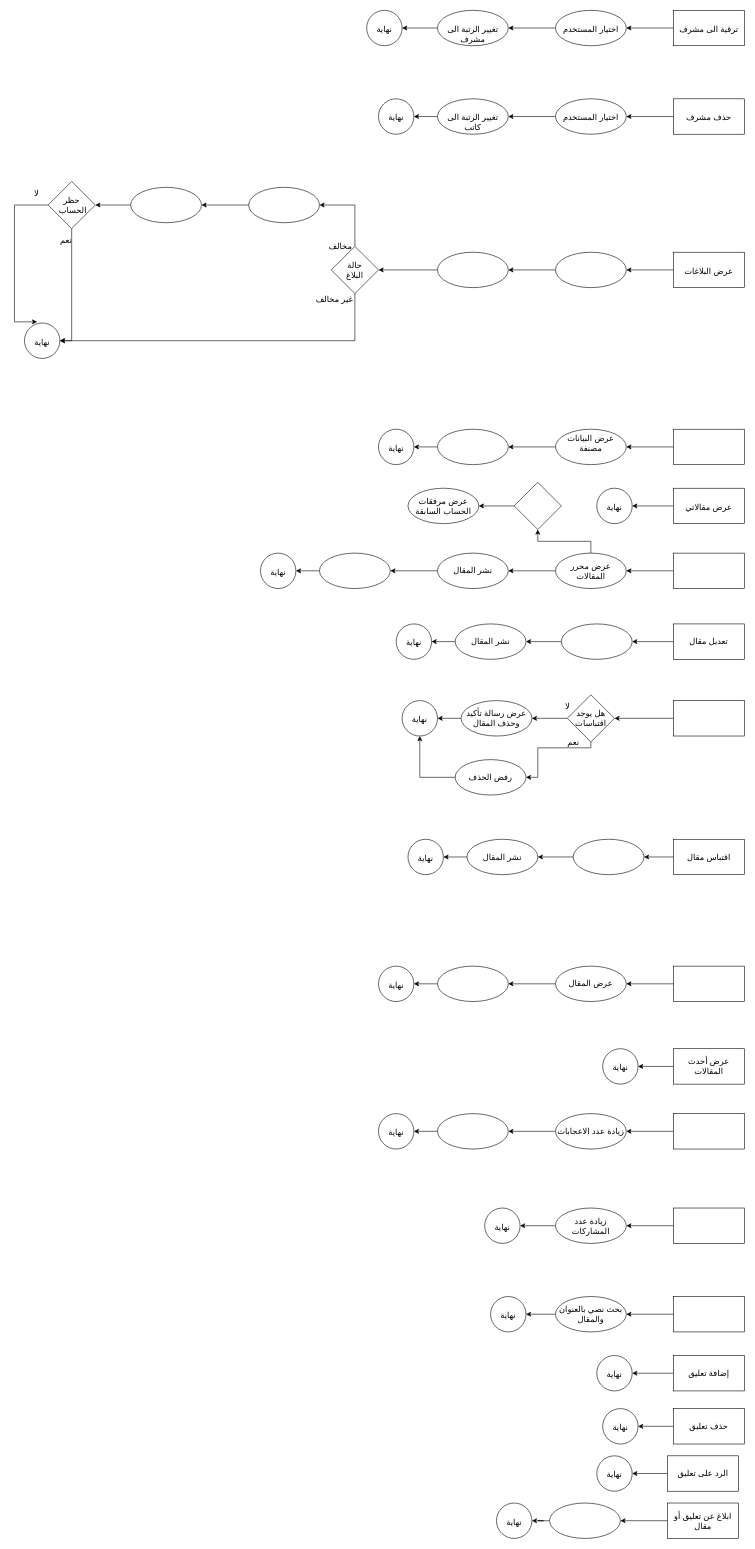
Image size: 755x1549. Some labels were removed from this diagram. The shapes that lost their labels are listed below. From the top down, each one's centre as x and y in pixels, then its label:
point 165,205: حذف المخالفة
point 283,205: عرض مخالفات الحساب السابقة
point 472,270: اغلاق البلاغ
point 590,270: عرض وصف البلاغ والشيئ المبلغ عليه
point 472,447: عرض الخيارات بجانب كل صف
point 708,447: عرض وحذف الحسابات والمقالات والتعليقات
point 537,506: إضافة مرفق
point 354,571: التأكيد على أن رخصة وقف تنطبق على المقال
point 708,571: اضافة مقال
point 596,641: عرض محرر المقالات مملوء
point 708,718: حذف مقال
point 608,857: عرض محرر المقالات مملوء بالمقال المقتبس
point 472,984: عرض المقال المقتبس منه
point 708,984: قراءة مقال
point 472,1131: اخفاء زر الاعجاب
point 708,1131: إعجاب بمقال
point 708,1225: مشاركة مقال
point 708,1314: بحث المقالات
point 584,1520: كتابة وصف البلاغ
